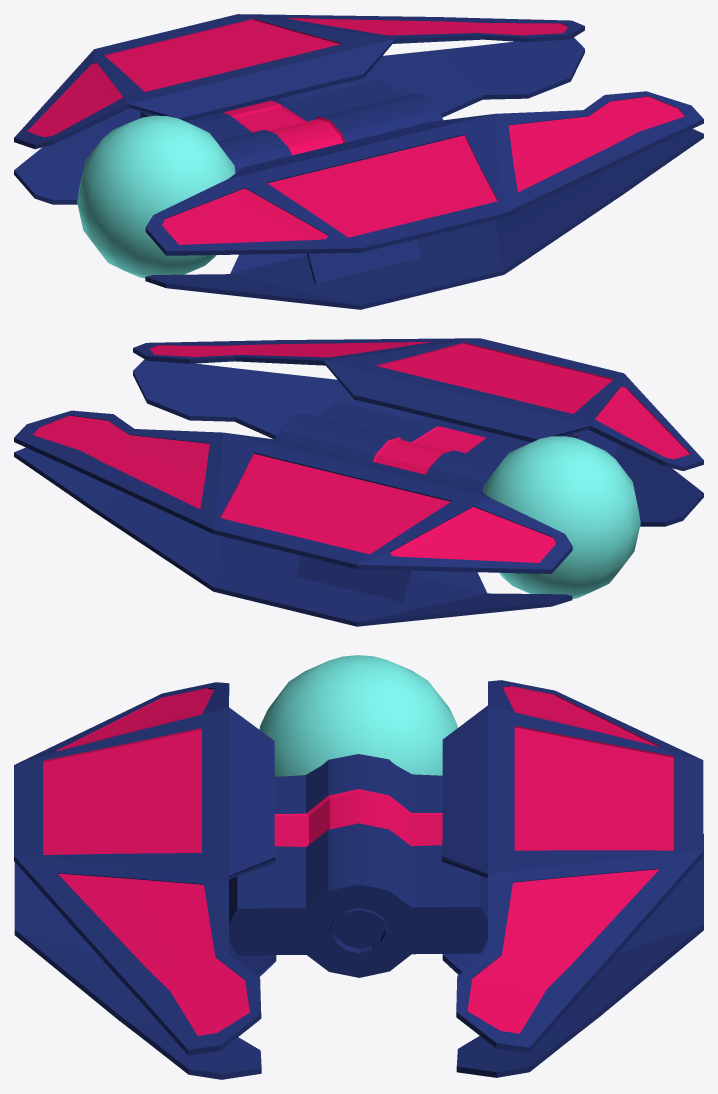
Rendered from vaisseau.fbx.
The picture shows the model from 3 angles, top to bottom: view 1: azimuth 30°, elevation 25°; view 2: azimuth 150°, elevation 25°; view 3: azimuth 270°, elevation 25°; orthographic projection. The views are drawn at different scales.
Visible parts, largest first — view 1: polySurface7, polySurface8, Sphere, polySurface6, pCylinder1_2, pCylinder1; view 2: polySurface7, polySurface6, Sphere, polySurface8, pCylinder1_2, pCylinder1; view 3: polySurface7, pCylinder1_2, Sphere, polySurface6, polySurface8, pCylinder1.
Part boxes in pixels (x1=…): polySurface7: x1=14, y1=14, x2=703, y2=255; polySurface8: x1=145, y1=129, x2=703, y2=309; Sphere: x1=77, y1=115, x2=235, y2=278; polySurface6: x1=14, y1=37, x2=584, y2=204; pCylinder1_2: x1=140, y1=80, x2=442, y2=283; pCylinder1: x1=223, y1=100, x2=345, y2=155; polySurface7: x1=14, y1=338, x2=703, y2=573; polySurface6: x1=14, y1=447, x2=572, y2=626; Sphere: x1=483, y1=436, x2=640, y2=599; polySurface8: x1=133, y1=359, x2=703, y2=526; pCylinder1_2: x1=275, y1=401, x2=577, y2=601; pCylinder1: x1=372, y1=426, x2=577, y2=474; polySurface7: x1=14, y1=680, x2=703, y2=1055; pCylinder1_2: x1=229, y1=754, x2=487, y2=977; Sphere: x1=259, y1=655, x2=457, y2=776; polySurface6: x1=442, y1=834, x2=703, y2=1077; polySurface8: x1=14, y1=862, x2=276, y2=1079; pCylinder1: x1=274, y1=789, x2=442, y2=846.
Bounding box in the file's own units: 13.5 × 3.5 × 11.34.
